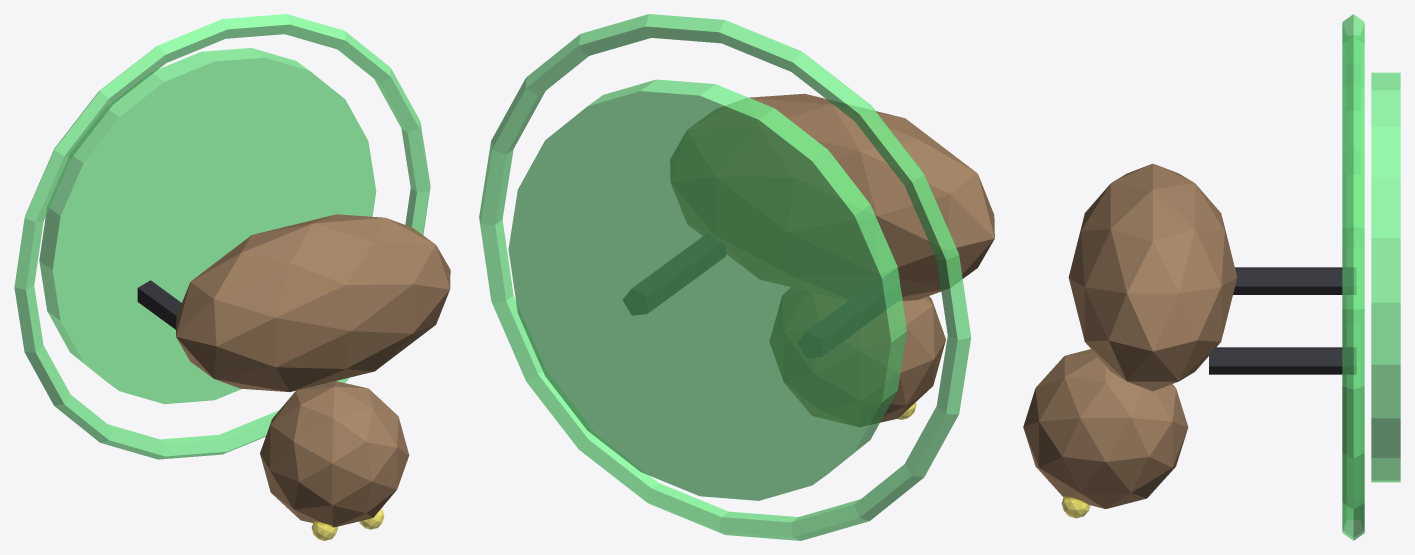
Rendered from 01_rabbit_critter.glb.
3 views of the same model, side by side, from view 1: azimuth 30°, elevation 25°; view 2: azimuth 150°, elevation 25°; view 3: azimuth 270°, elevation 25° (orthographic). The views are drawn at different scales.
Visible parts, largest first — view 1: base_disc, body, base_ring, head, leg_l; view 2: base_disc, body, base_ring, head, leg_l, leg_r; view 3: body, head, base_disc, base_ring, leg_r, leg_l, eye_r.
Boxes of the visible parts, <box> form: base_disc: <box>39,48,376,404</box>; body: <box>176,214,450,392</box>; base_ring: <box>14,14,430,459</box>; head: <box>260,381,409,527</box>; leg_l: <box>137,280,181,329</box>; base_disc: <box>508,79,906,500</box>; body: <box>670,93,994,300</box>; base_ring: <box>479,14,971,540</box>; head: <box>770,288,945,426</box>; leg_l: <box>798,277,900,357</box>; leg_r: <box>623,233,725,314</box>; body: <box>1068,163,1237,391</box>; head: <box>1023,349,1188,508</box>; base_disc: <box>1371,72,1400,482</box>; base_ring: <box>1342,14,1364,540</box>; leg_r: <box>1209,347,1355,374</box>; leg_l: <box>1233,267,1355,294</box>; eye_r: <box>1061,496,1090,518</box>.
Size of the model in its own units: 0.9 by 0.9 by 0.64.
